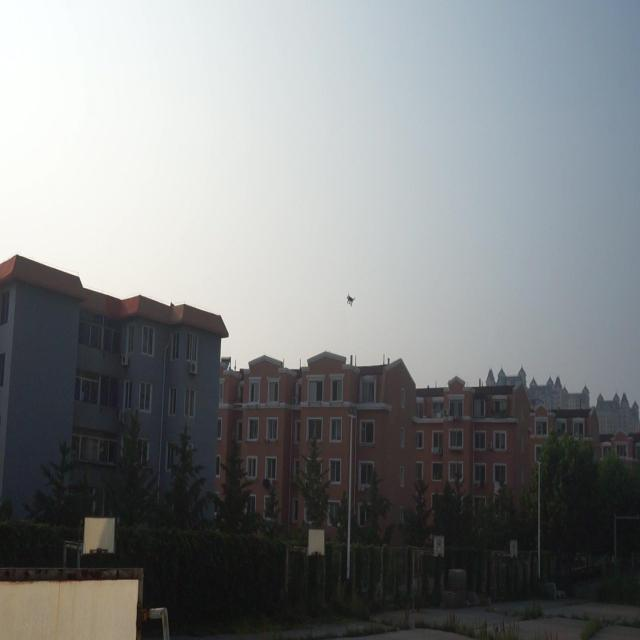drone: (344, 291, 356, 306)
